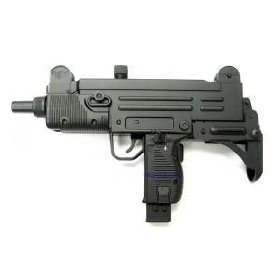rifle: (6, 43, 272, 234)
